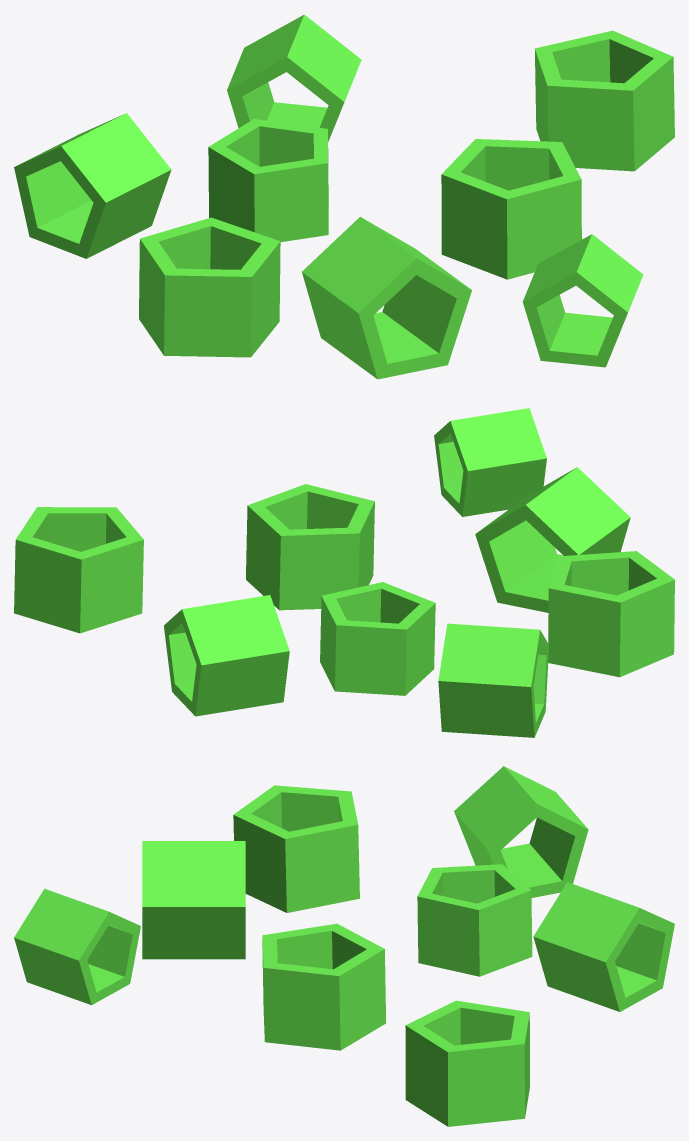
The model's file is chives04.gltf.
3 renders of one model, top to bottom at view 1: azimuth 30°, elevation 25°; view 2: azimuth 150°, elevation 25°; view 3: azimuth 270°, elevation 25°, orthographic. The views are drawn at different scales.
Parts seen in each view (by area): view 1: Cylinder.002; view 2: Cylinder.002; view 3: Cylinder.002.
Part boxes in pixels (x1,y1,x2,y2): Cylinder.002: [14, 14, 674, 379]; Cylinder.002: [14, 408, 674, 737]; Cylinder.002: [14, 766, 674, 1126].
Bounding box in the file's own units: 0.0255 × 0.00482 × 0.0264.
Materials: 1 (1 with a texture image).
